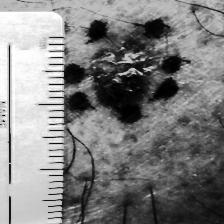Benign Marking or Mole: (95, 44, 159, 98)
